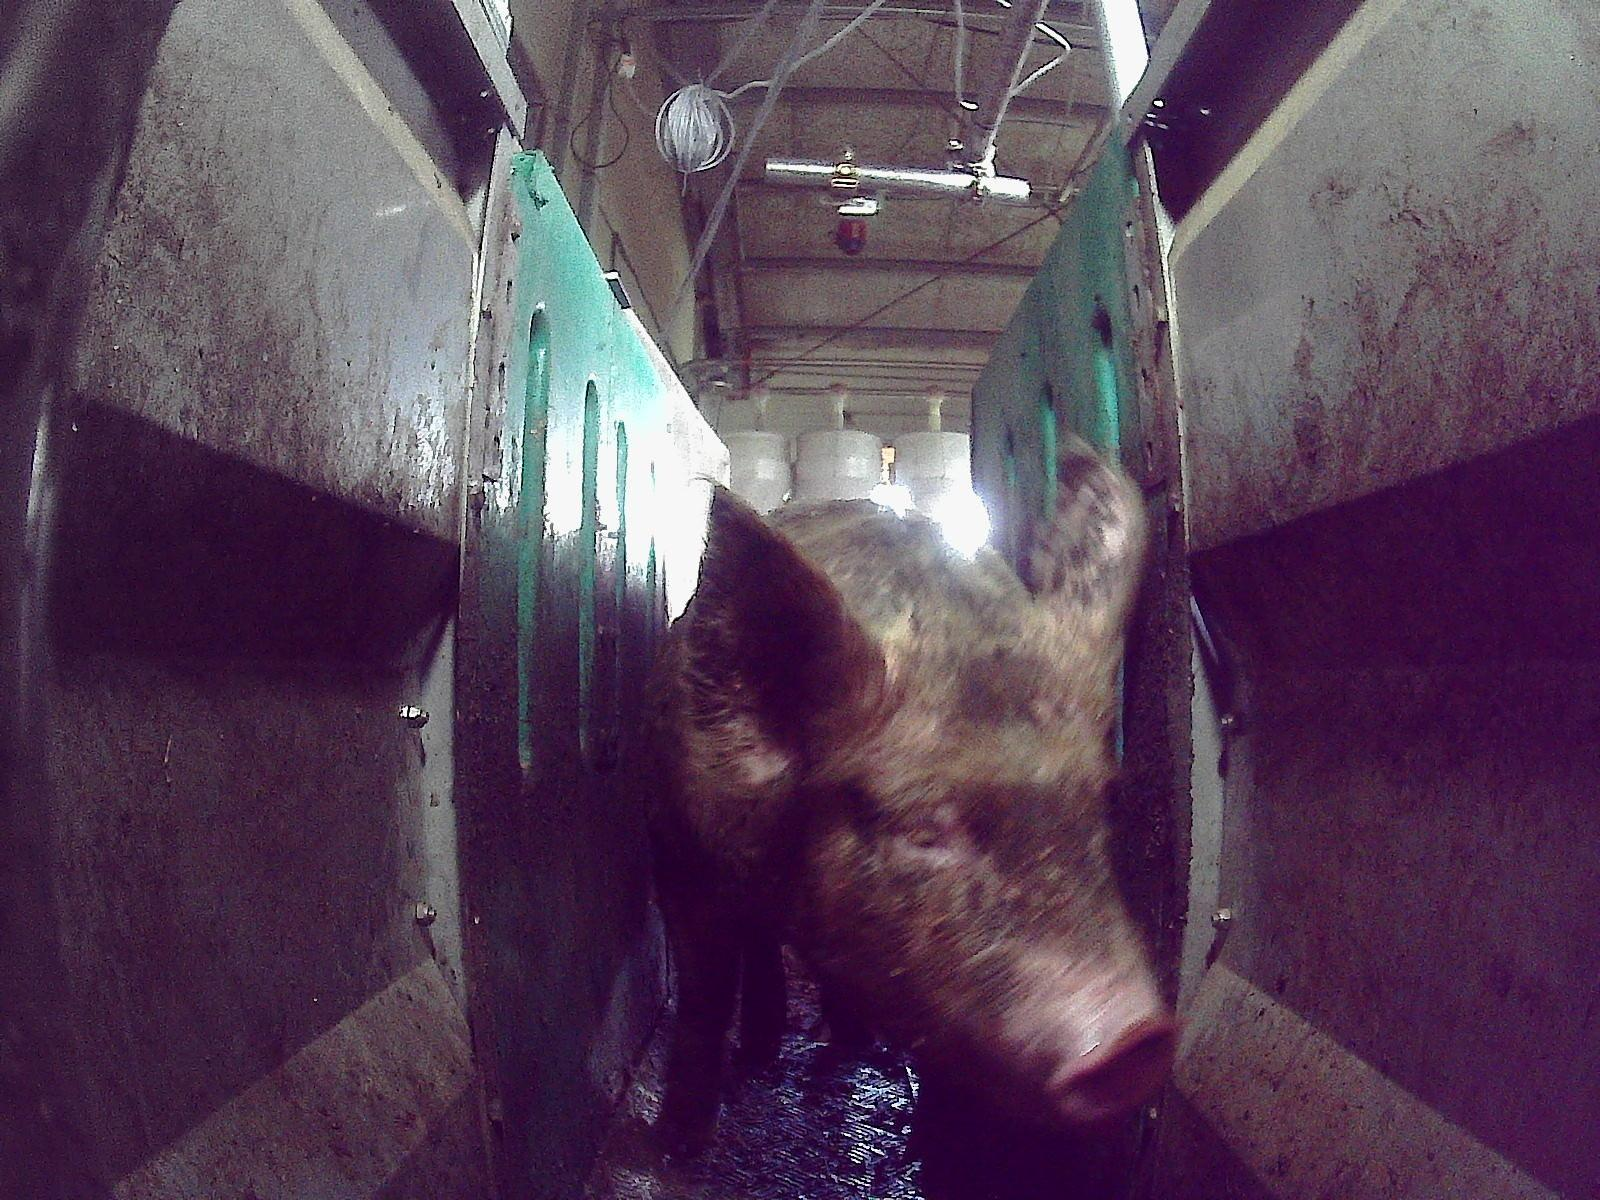Face: (747, 569, 1183, 1127)
